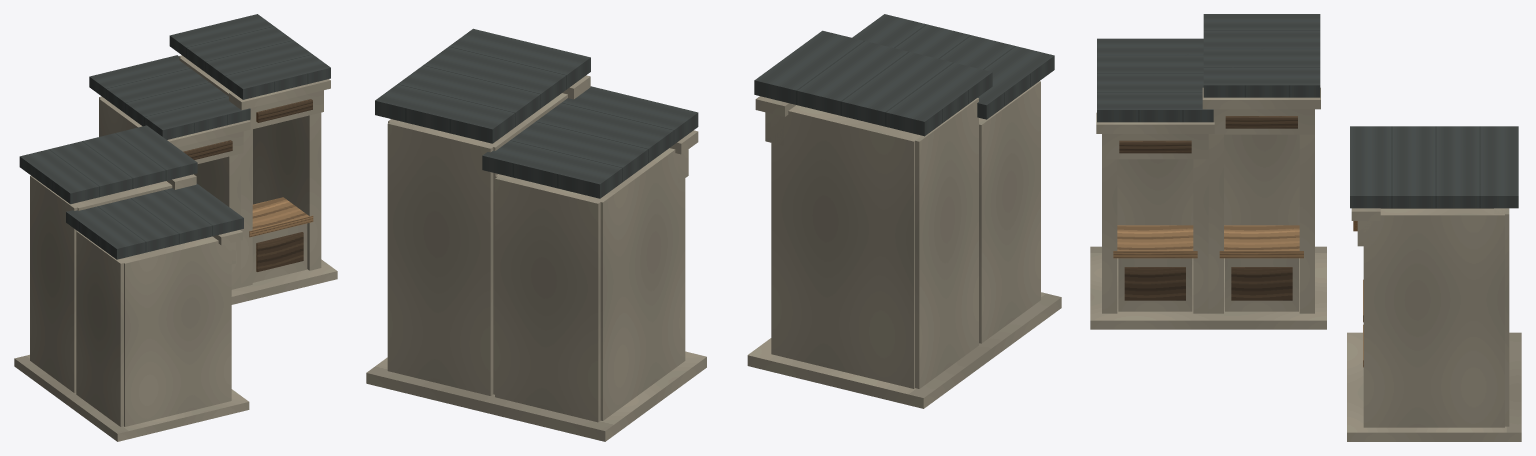
Rendered from ouagadougou.glb.
The picture shows the model from 3 angles, left to right: view 1: azimuth 30°, elevation 25°; view 2: azimuth 150°, elevation 25°; view 3: azimuth 270°, elevation 25°; orthographic projection. The views are drawn at different scales.
Visible parts, largest first — view 1: ouagadougou; view 2: ouagadougou; view 3: ouagadougou.
Boxes of the visible parts, box(x1,y1,x2,y2) form: ouagadougou: box(14, 14, 337, 441); ouagadougou: box(366, 14, 1061, 441); ouagadougou: box(1090, 14, 1521, 441).
Size of the model in its own units: 4.1 by 2.5 by 4.02.
Materials: 1 (1 with a texture image).
